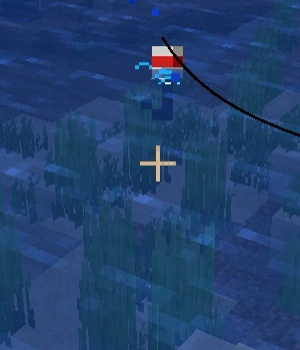up: (141, 36, 190, 124)
